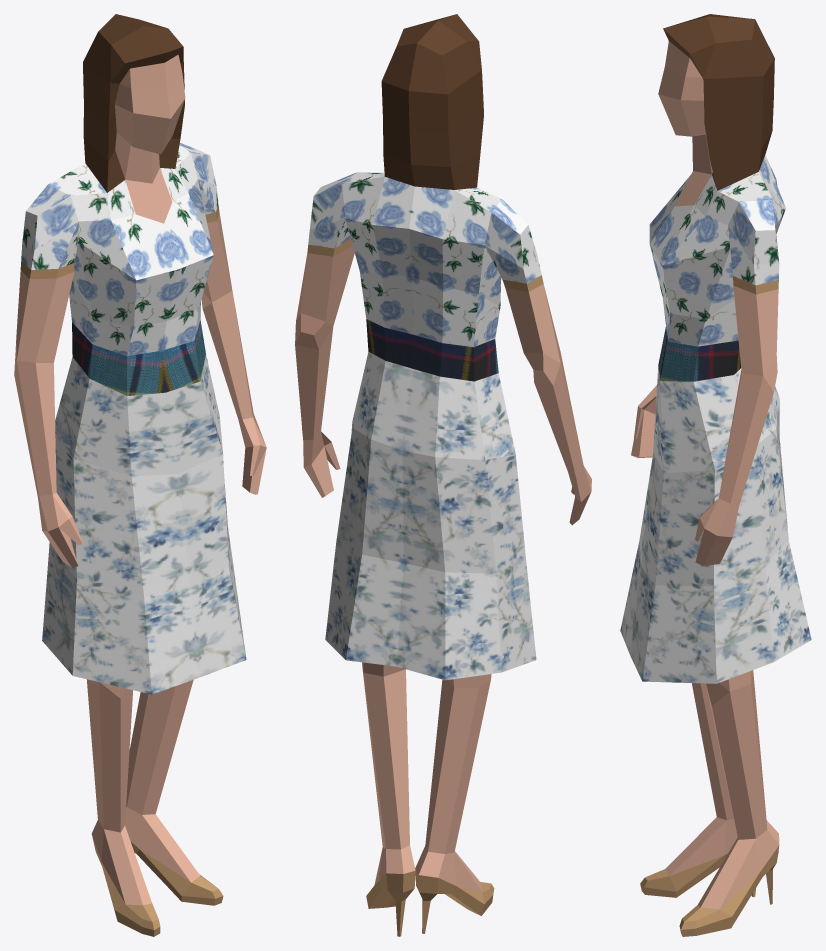
Rendered from SpringWomanC.006.glb.
The picture shows the model from 3 angles, left to right: view 1: azimuth 30°, elevation 25°; view 2: azimuth 150°, elevation 25°; view 3: azimuth 270°, elevation 25°; orthographic projection.
Visible parts, largest first — view 1: SpringWomanC.007; view 2: SpringWomanC.007; view 3: SpringWomanC.007.
Boxes of the visible parts, x1=… form: SpringWomanC.007: x1=14, y1=14, x2=266, y2=936; SpringWomanC.007: x1=295, y1=14, x2=591, y2=936; SpringWomanC.007: x1=620, y1=14, x2=811, y2=936.
Bounding box in the file's own units: 0.5018 × 1.7 × 0.3326.
Materials: 1 (1 with a texture image).
